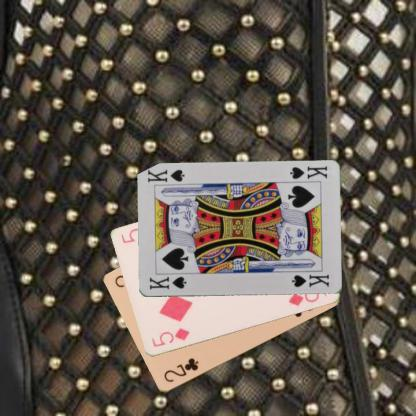2c: (161, 355, 200, 384)
5d: (148, 326, 190, 348)
Ks: (287, 163, 328, 181), (146, 274, 188, 291)
